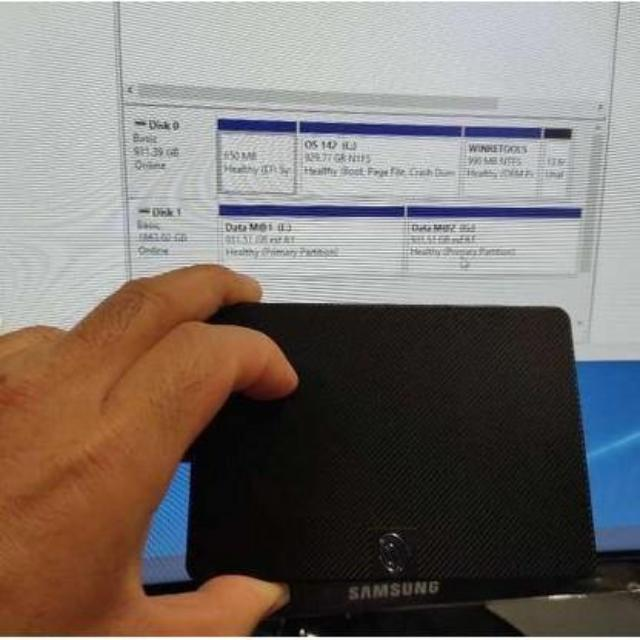DISK: (171, 300, 597, 582)
